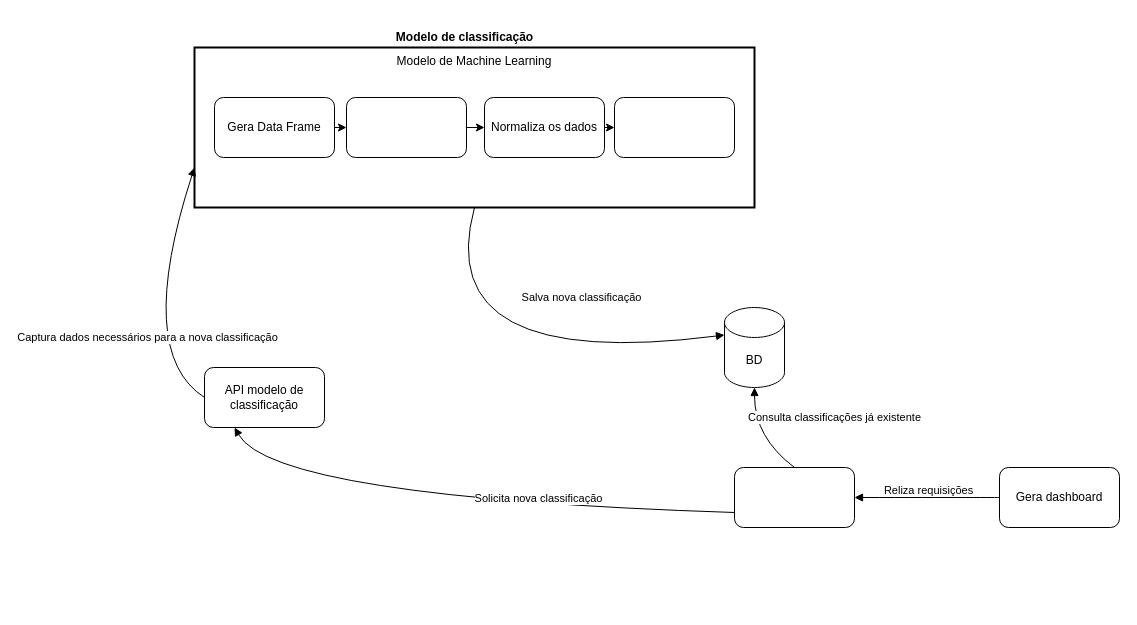
Image size: 1137x625. Some labels were removed from this diagram. Each missing label, with the centre of its shape:
"Api de consulta dos dados" goes at pixel 794 497.
"Gera e cria a classificação" goes at pixel 674 127.
"Realiza pré processamento" goes at pixel 406 127.
